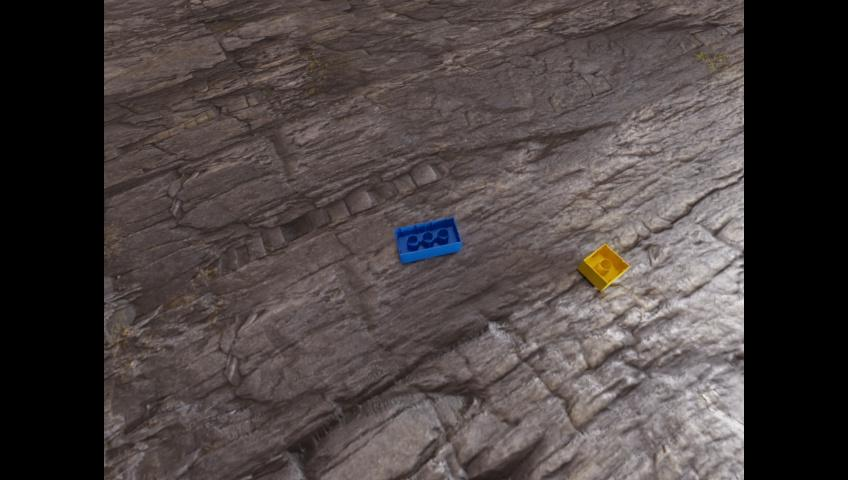2x2_yellow: (577, 243, 629, 291)
4x2_blue: (394, 216, 460, 263)
